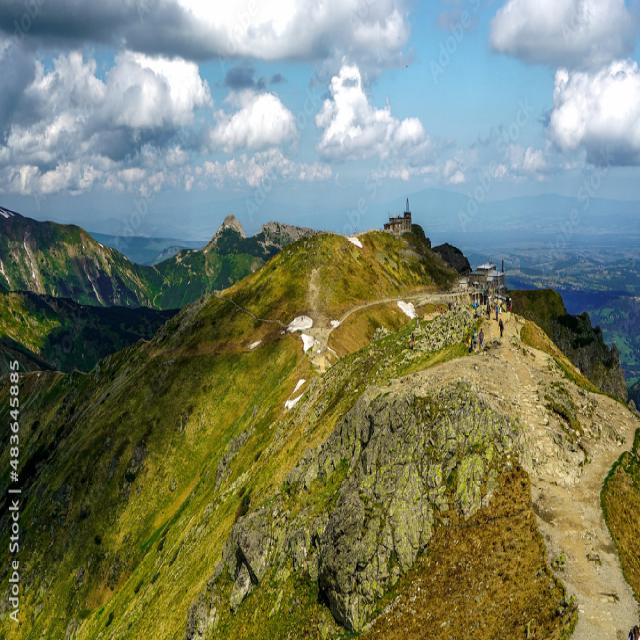Giewont: (199, 163, 261, 271)
Kasprowy Wierch: (311, 98, 494, 352)
